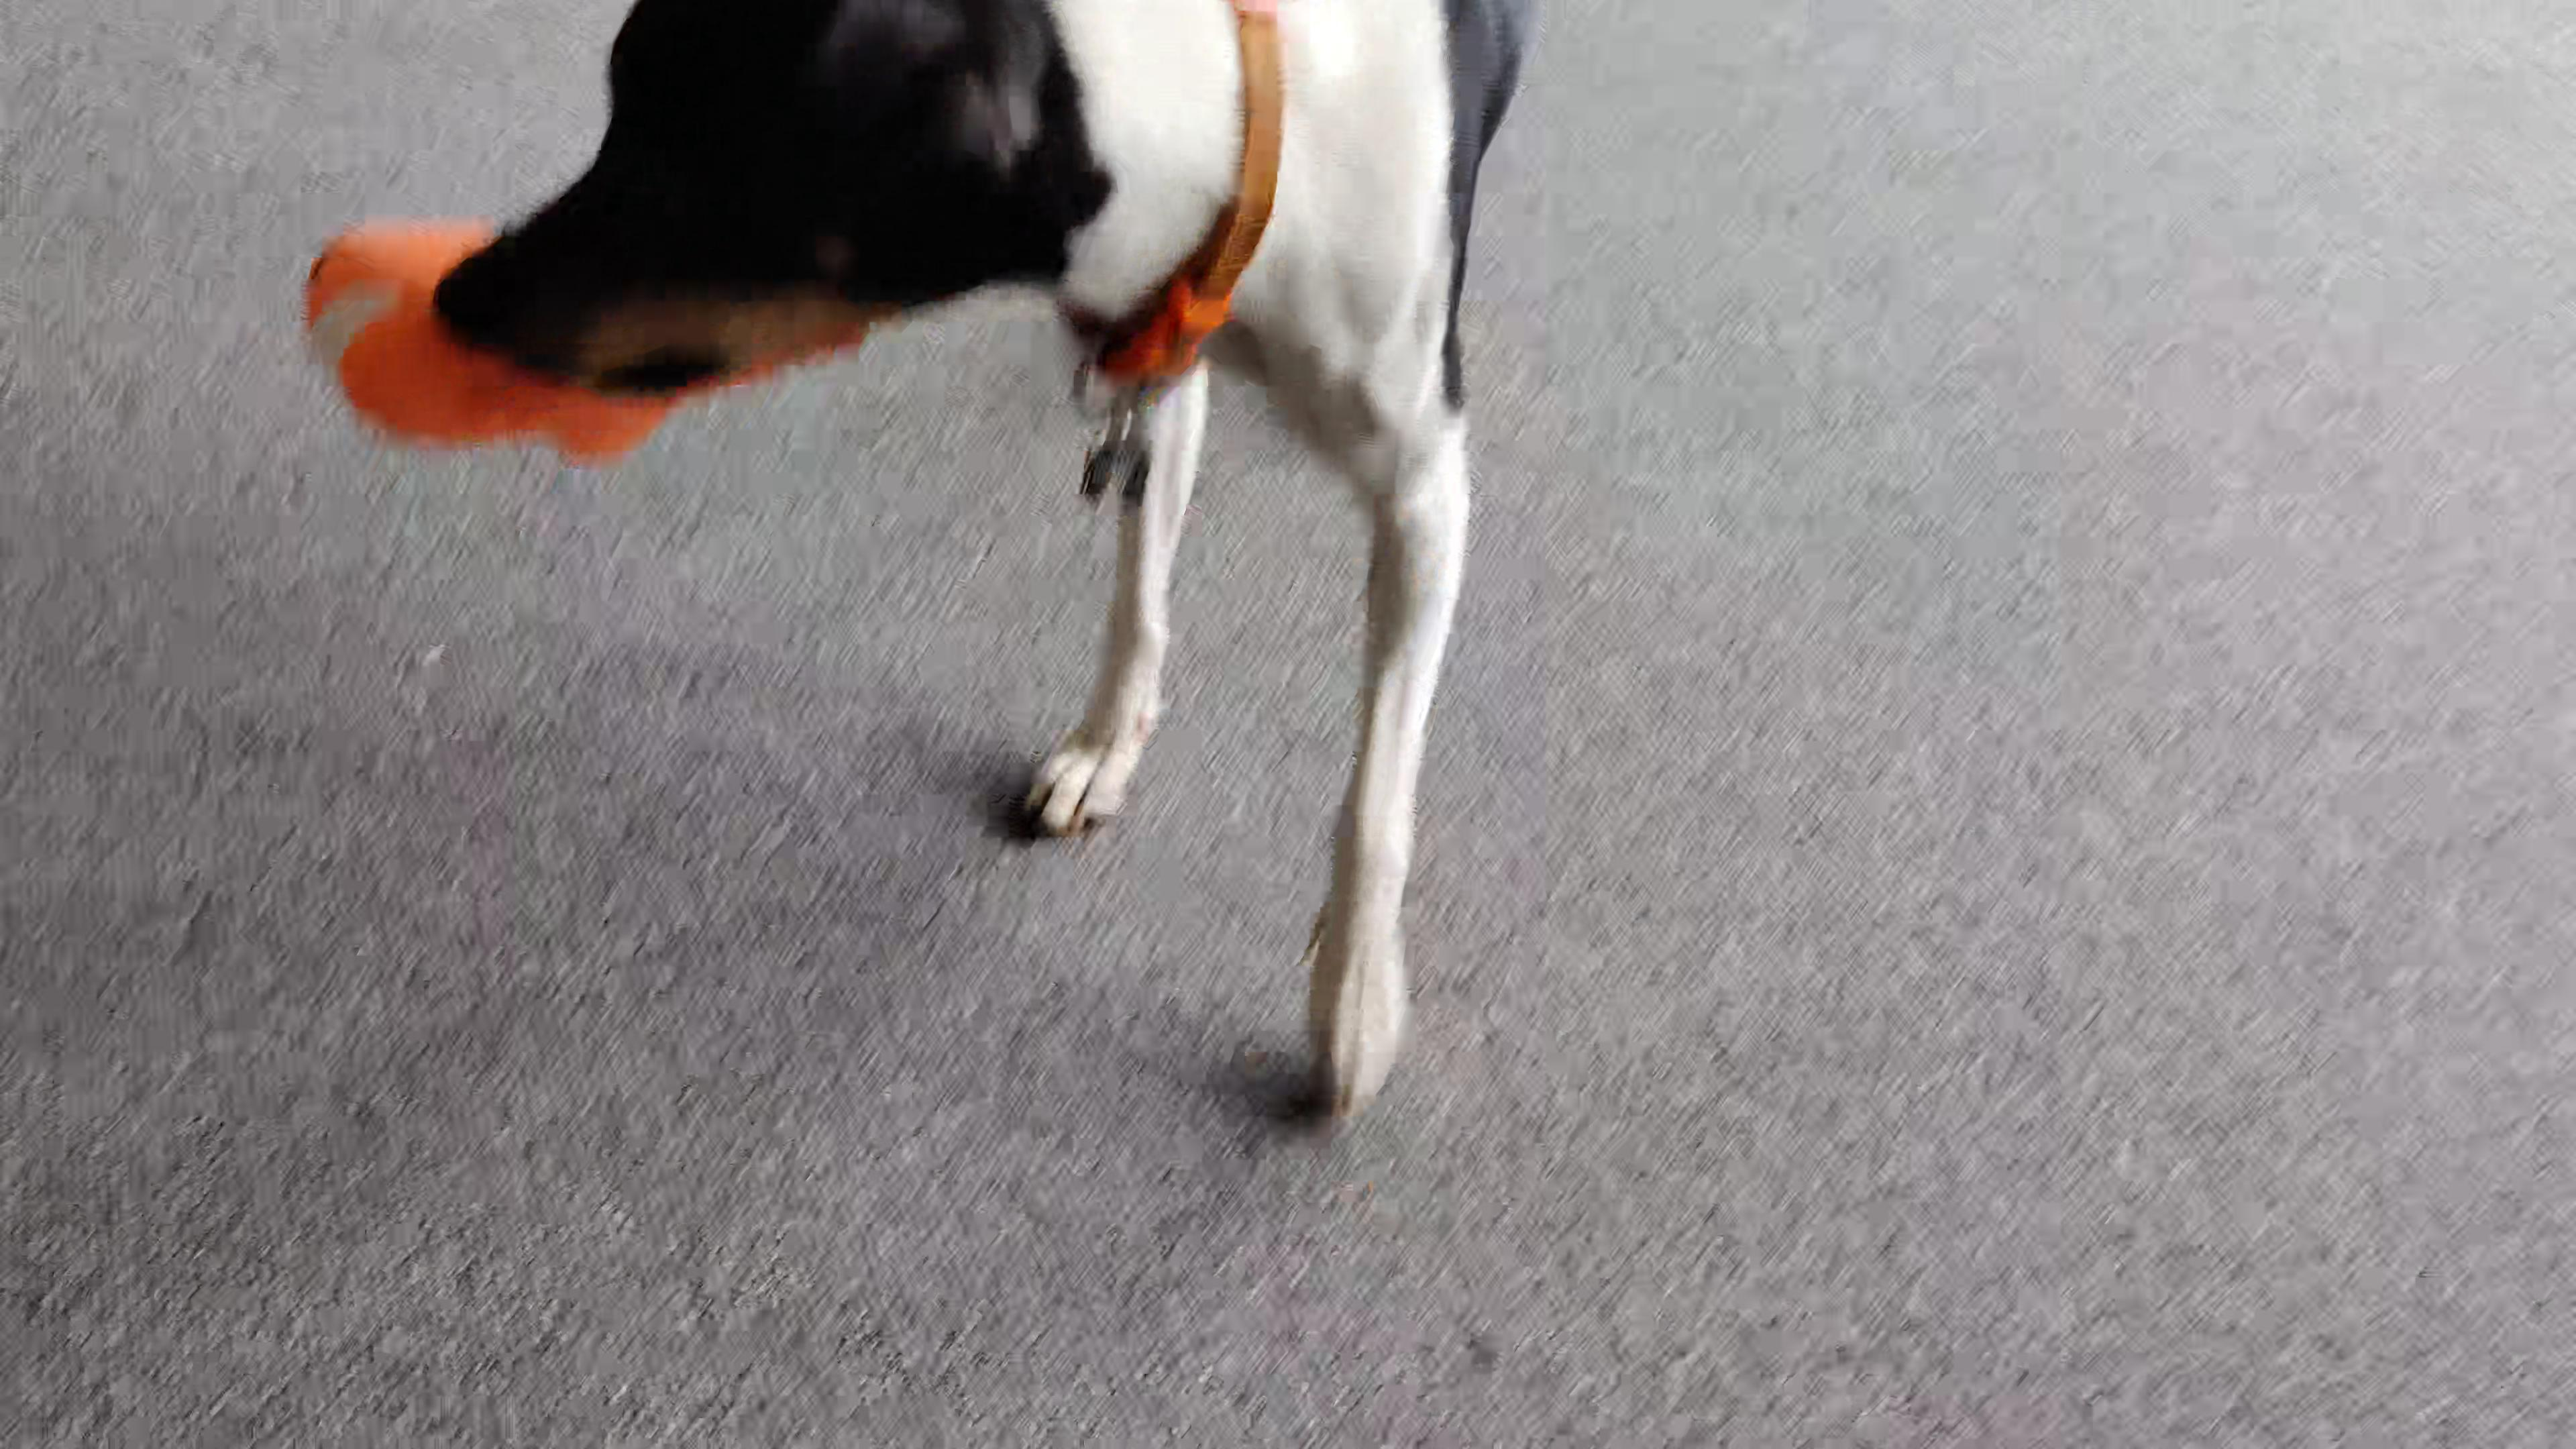Dog: (425, 0, 1543, 1155)
